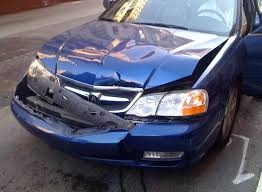Dent: (12, 72, 138, 150), (118, 43, 163, 62)
